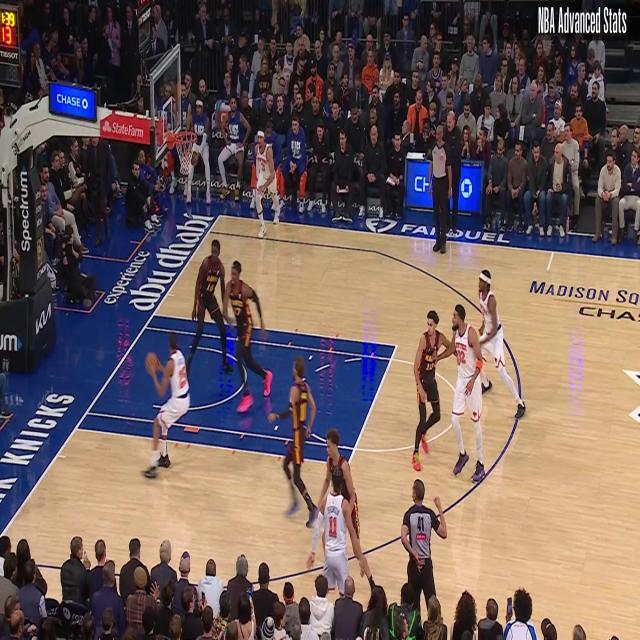ball: (144, 340, 162, 380)
judge: (404, 482, 447, 615), (430, 124, 452, 252)
player: (316, 425, 378, 605), (437, 302, 487, 486), (476, 272, 528, 421), (270, 359, 316, 508), (224, 264, 271, 404), (143, 334, 189, 475), (311, 465, 357, 602), (189, 241, 233, 372), (413, 311, 448, 475), (252, 128, 279, 238)
